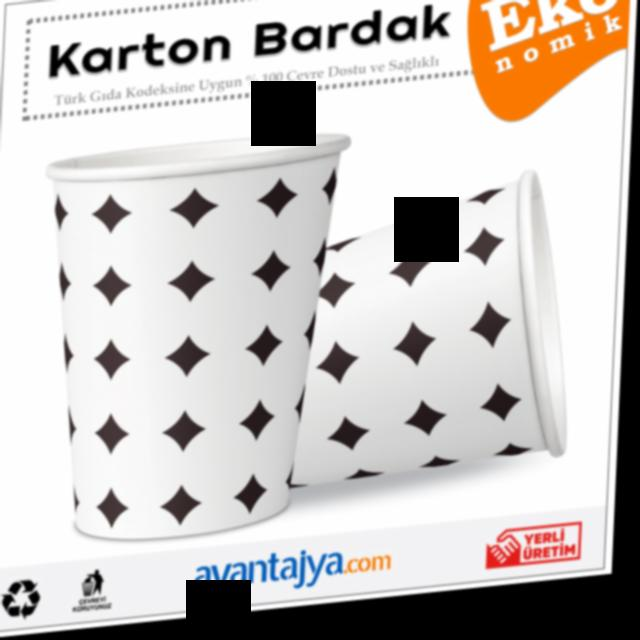karton-bardak: (30, 140, 345, 553)
